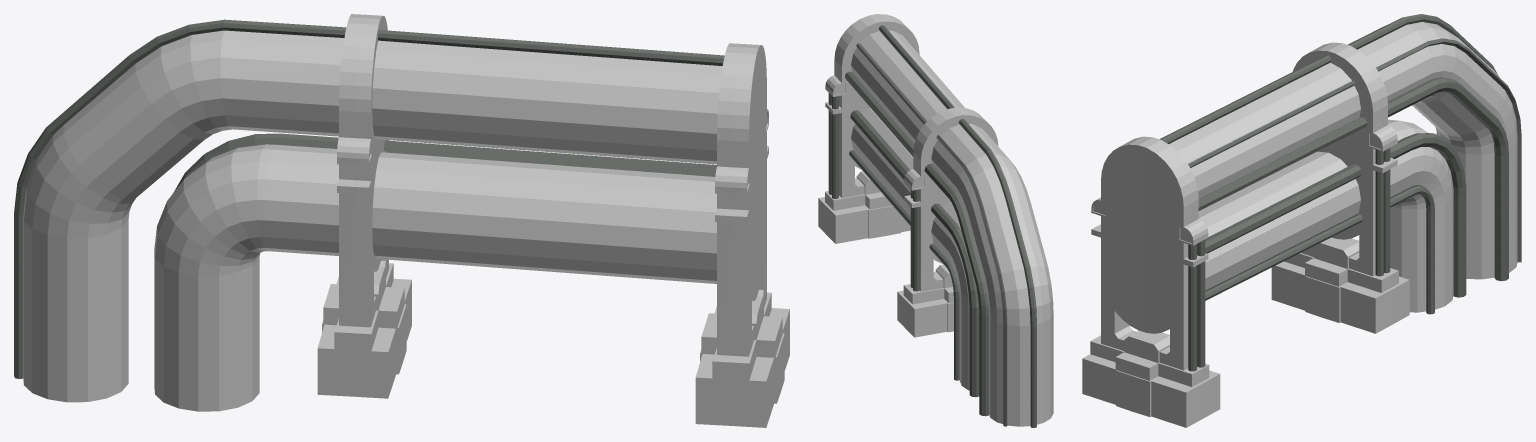
The model's file is PipeWall_A_Distant.fbx.
The picture shows the model from 3 angles, left to right: view 1: azimuth 30°, elevation 25°; view 2: azimuth 150°, elevation 25°; view 3: azimuth 270°, elevation 25°; orthographic projection. The views are drawn at different scales.
Visible parts, largest first — view 1: SM_ENV_AMVLLG02_PipeWall_A_Distant.mo; view 2: SM_ENV_AMVLLG02_PipeWall_A_Distant.mo; view 3: SM_ENV_AMVLLG02_PipeWall_A_Distant.mo.
Boxes of the visible parts, x1=… form: SM_ENV_AMVLLG02_PipeWall_A_Distant.mo: x1=14, y1=14, x2=789, y2=427; SM_ENV_AMVLLG02_PipeWall_A_Distant.mo: x1=818, y1=14, x2=1053, y2=427; SM_ENV_AMVLLG02_PipeWall_A_Distant.mo: x1=1082, y1=14, x2=1521, y2=427.
Bounding box in the file's own units: 8602 × 5459 × 7572.
